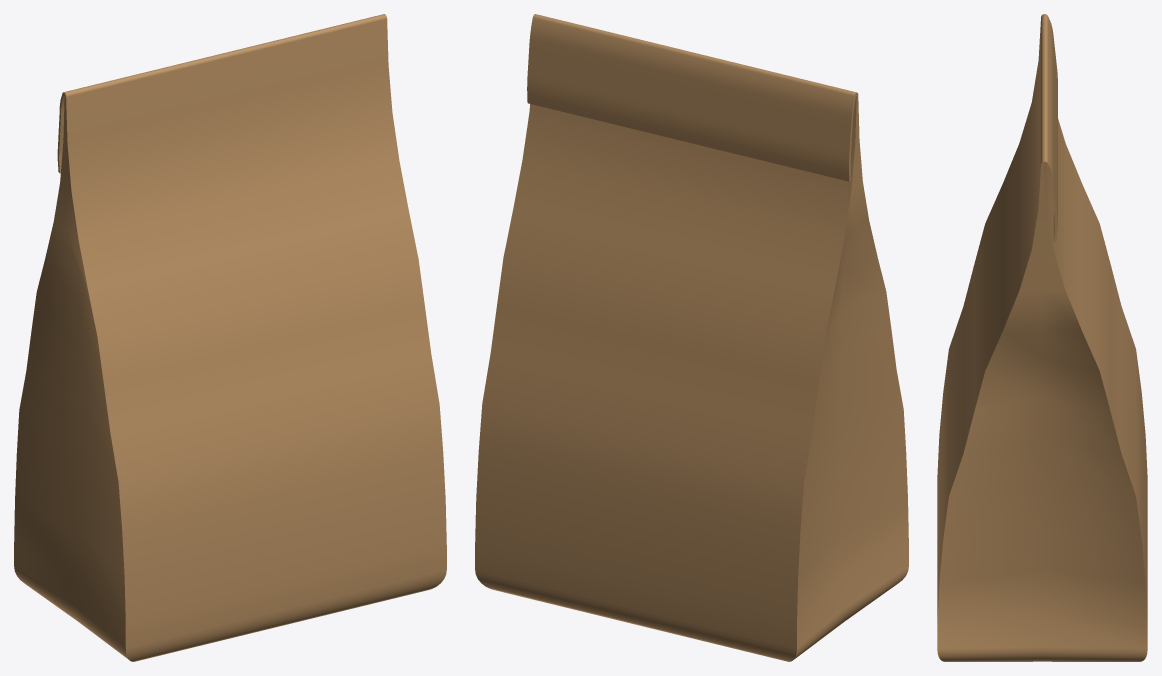
File: brownlunchbag.fbx
3 views of the same model, side by side, from view 1: azimuth 30°, elevation 25°; view 2: azimuth 150°, elevation 25°; view 3: azimuth 270°, elevation 25° (orthographic). The views are drawn at different scales.
Parts seen in each view (by area): view 1: Cube; view 2: Cube; view 3: Cube.
Boxes of the visible parts, bbox=[...] form: Cube: bbox=[14, 14, 446, 661]; Cube: bbox=[475, 14, 908, 661]; Cube: bbox=[937, 14, 1147, 661].
Size of the model in its own units: 311 by 490 by 185.
